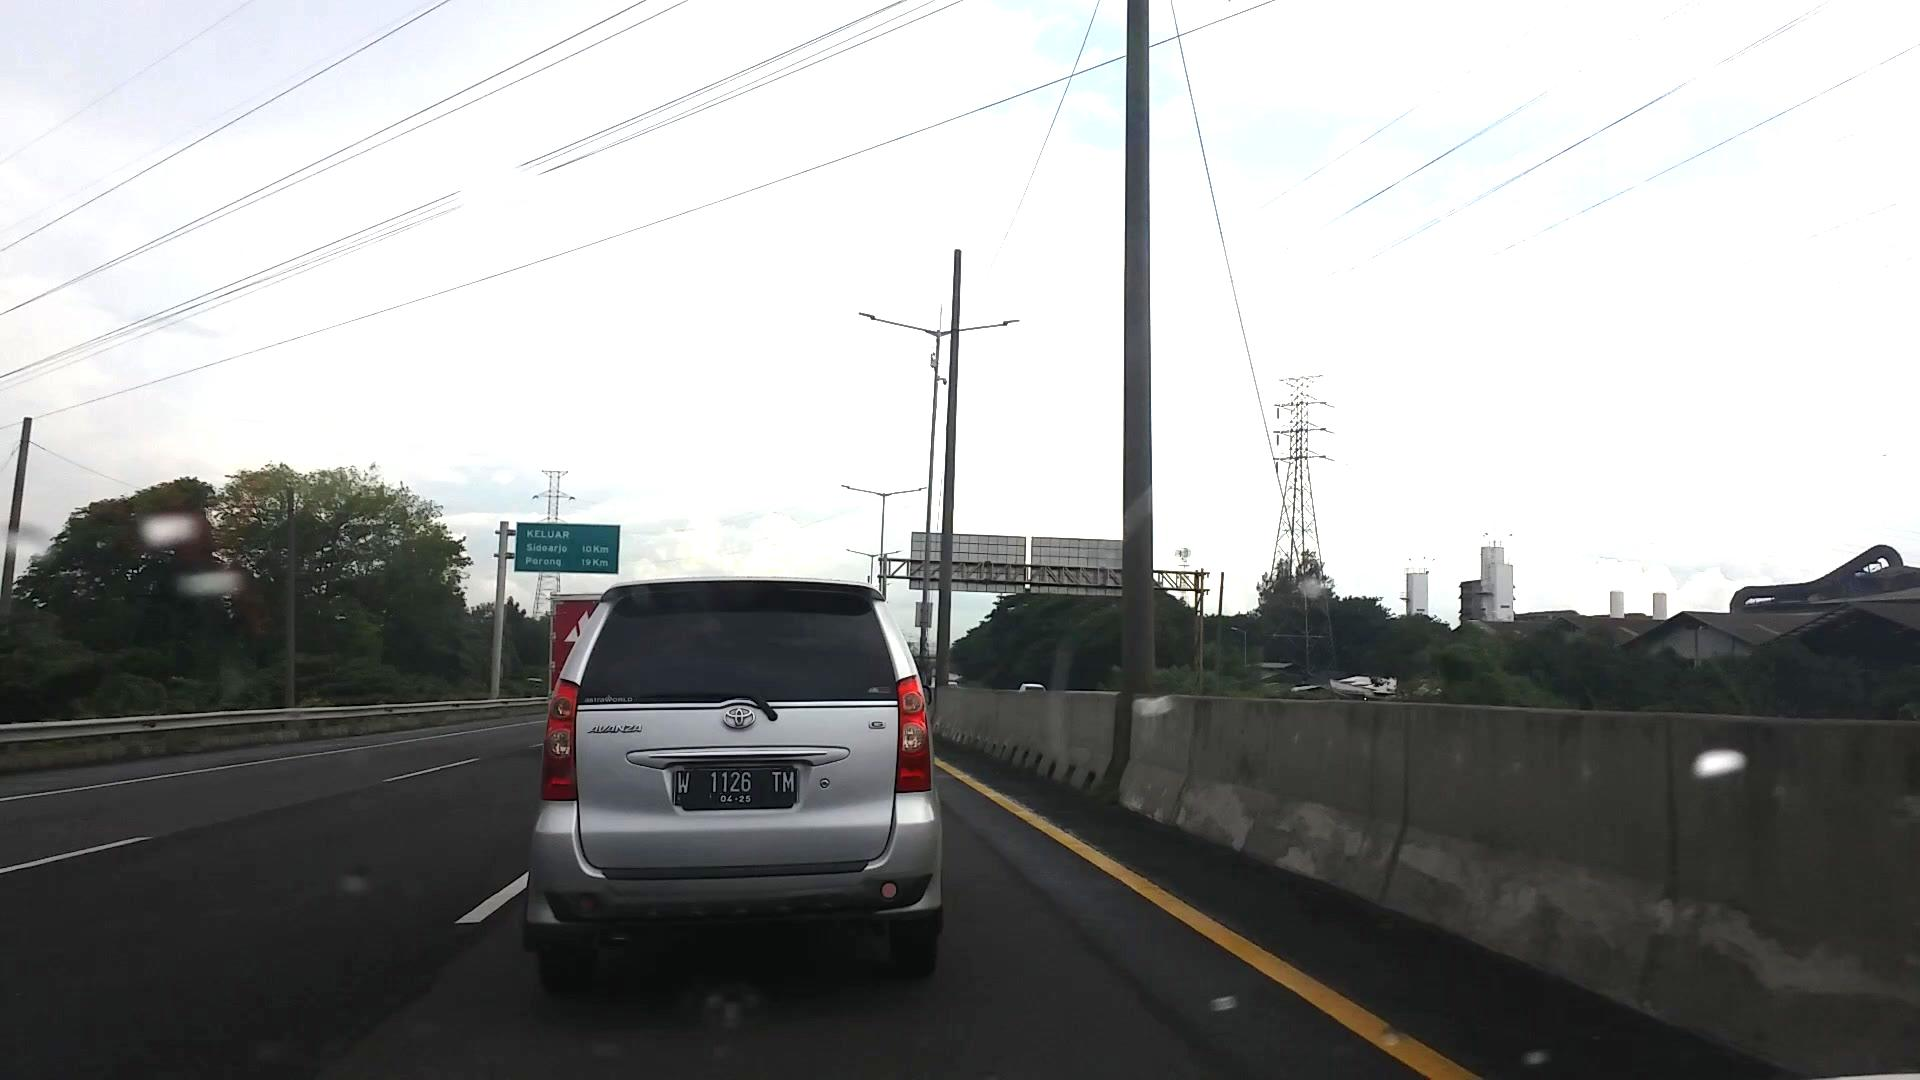plate_positive: (673, 767, 798, 808)
